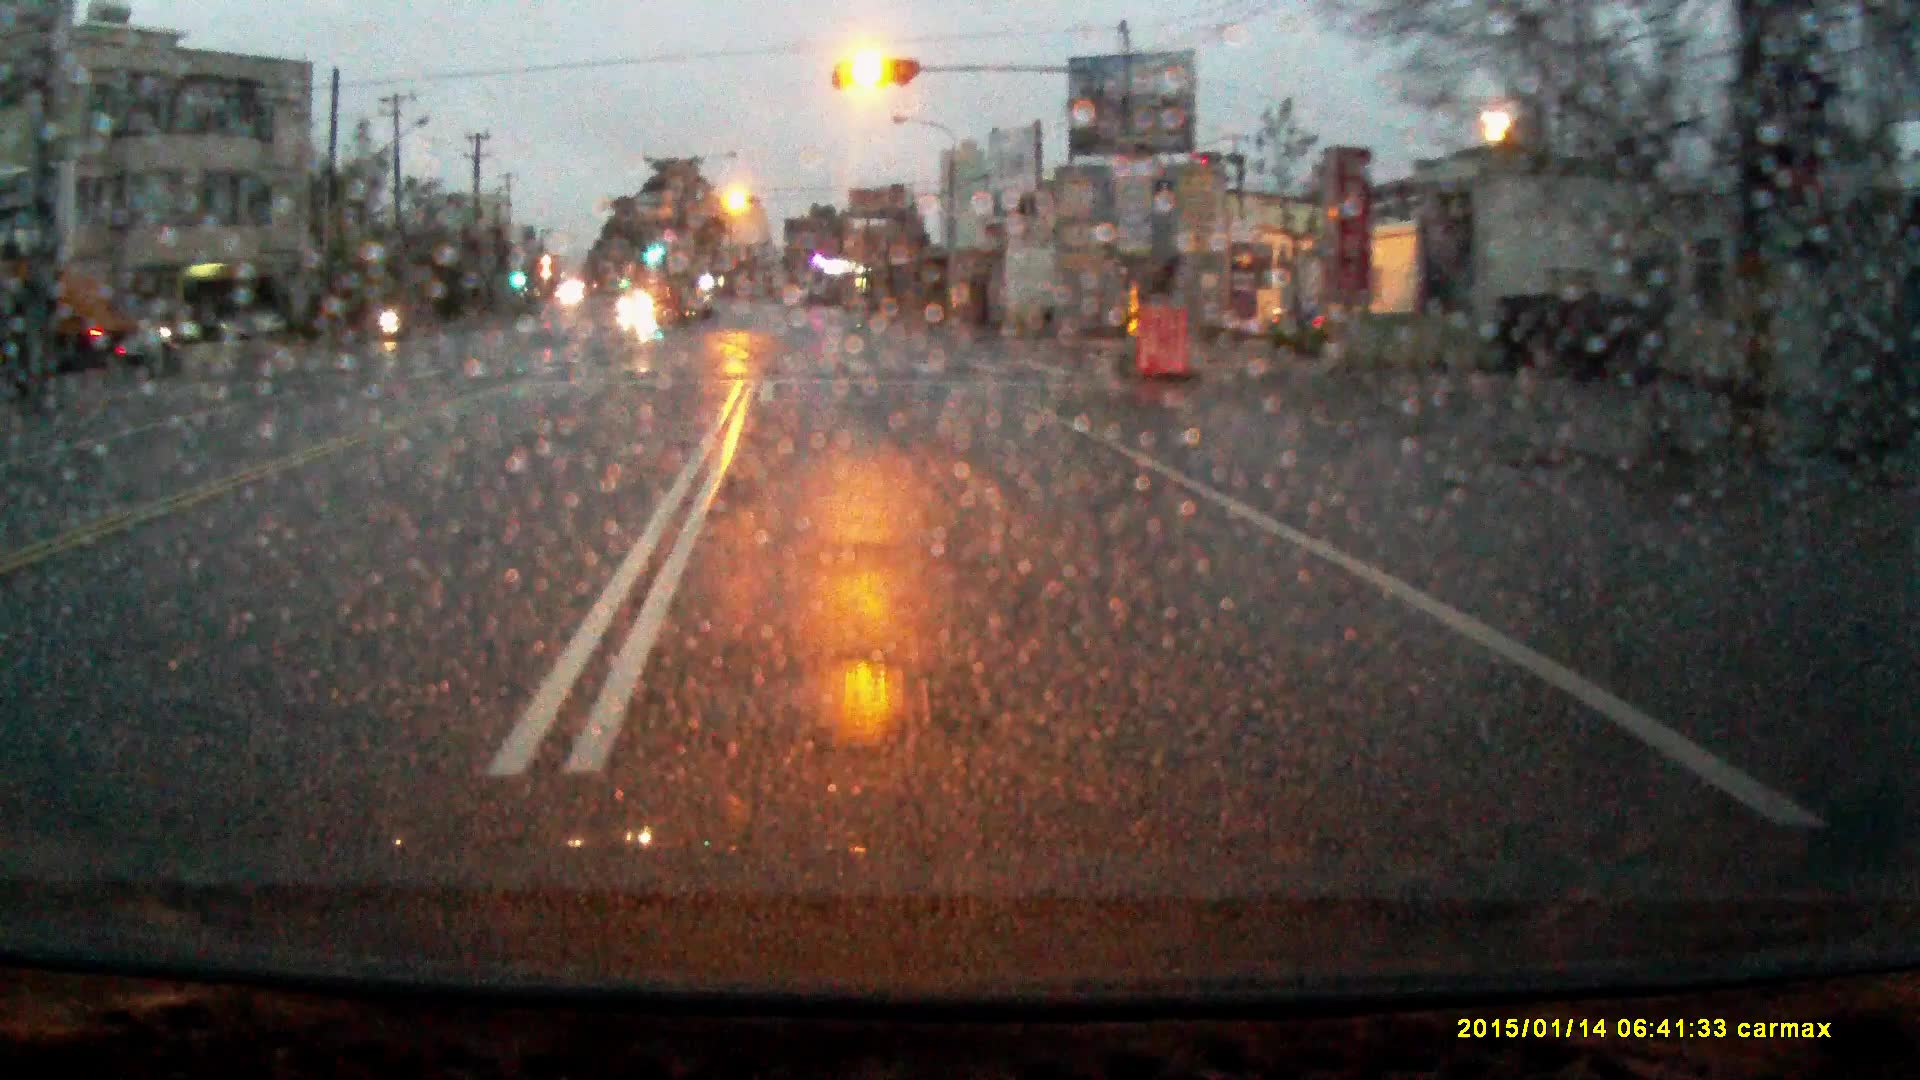rider: (376, 278, 403, 340)
vehicle: (1, 258, 128, 367), (618, 289, 655, 316)
